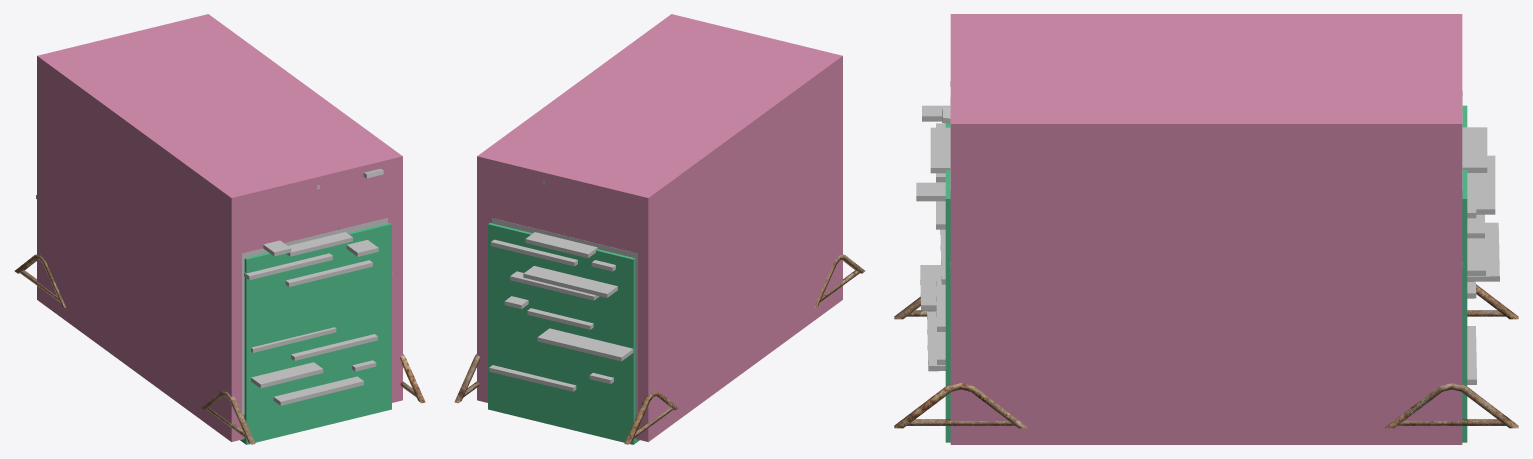
Rendered from ind_obj_01_b.dae.
3 renders of one model, left to right at view 1: azimuth 30°, elevation 25°; view 2: azimuth 150°, elevation 25°; view 3: azimuth 270°, elevation 25°, orthographic. The views are drawn at different scales.
Parts seen in each view (by area): view 1: Untitled, Colmesh-1, tree_oak_bush_a300, tree_oak_bush_a100, tree_oak_bush_a20; view 2: Untitled, Colmesh-1, tree_oak_bush_a300, tree_oak_bush_a100, tree_oak_bush_a20; view 3: Untitled, tree_oak_bush_a300, Colmesh-1.
Boxes of the visible parts, x1,y1,x2,y2 form: Untitled: [37, 14, 402, 441]; Colmesh-1: [240, 223, 391, 444]; tree_oak_bush_a300: [14, 170, 425, 444]; tree_oak_bush_a100: [242, 168, 387, 305]; tree_oak_bush_a20: [242, 218, 387, 414]; Untitled: [477, 14, 842, 441]; Colmesh-1: [488, 223, 639, 444]; tree_oak_bush_a300: [454, 181, 865, 444]; tree_oak_bush_a100: [492, 218, 644, 400]; tree_oak_bush_a20: [492, 219, 637, 414]; Untitled: [950, 14, 1462, 444]; tree_oak_bush_a300: [894, 82, 1518, 428]; Colmesh-1: [945, 105, 1467, 442].
Bounding box in the file's own units: 1.29 × 3.05 × 1.76.
